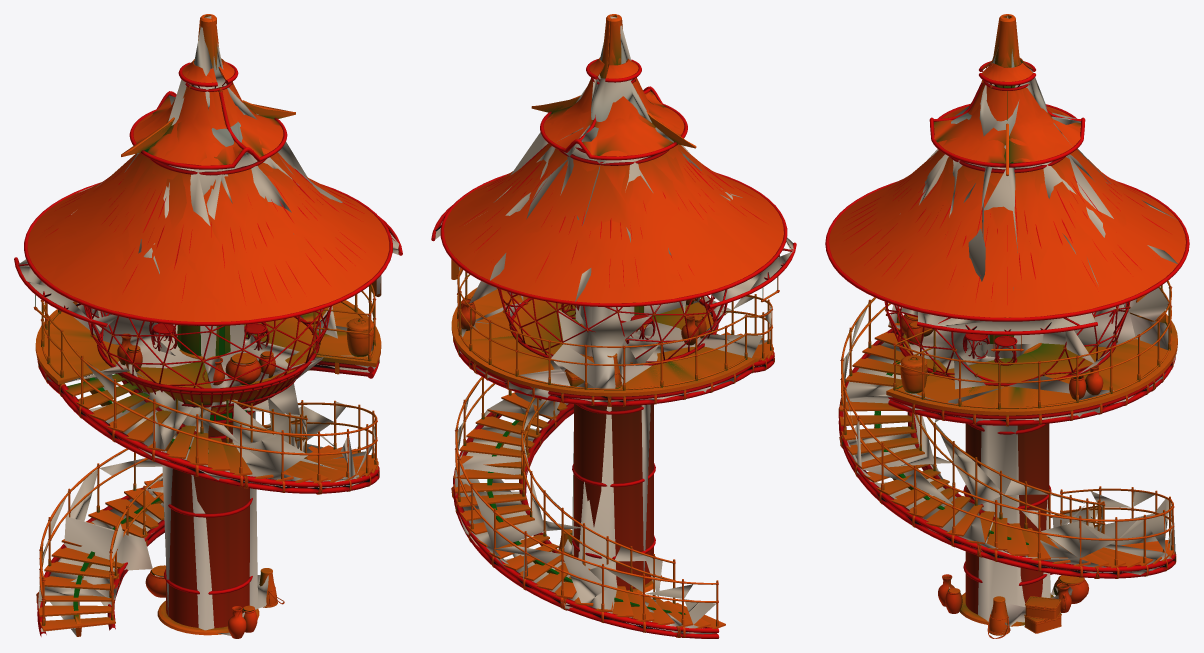
File: KB3D_GAE_BldgSM_B.glb
The picture shows the model from 3 angles, left to right: view 1: azimuth 30°, elevation 25°; view 2: azimuth 150°, elevation 25°; view 3: azimuth 270°, elevation 25°; orthographic projection. The views are drawn at different scales.
Visible parts, largest first — view 1: L0, L1, L2; view 2: L0, L1, L2; view 3: L0, L1, L2.
Part boxes in pixels (x1,y1,x2,y2): L0: (14, 14, 402, 638); L1: (18, 14, 401, 636); L2: (18, 16, 399, 636); L0: (431, 14, 796, 638); L1: (433, 14, 791, 633); L2: (435, 16, 793, 634); L0: (825, 14, 1189, 638); L1: (827, 14, 1186, 637); L2: (842, 16, 1177, 632).
Size of the model in its own units: 9.16 by 15.77 by 8.68.
